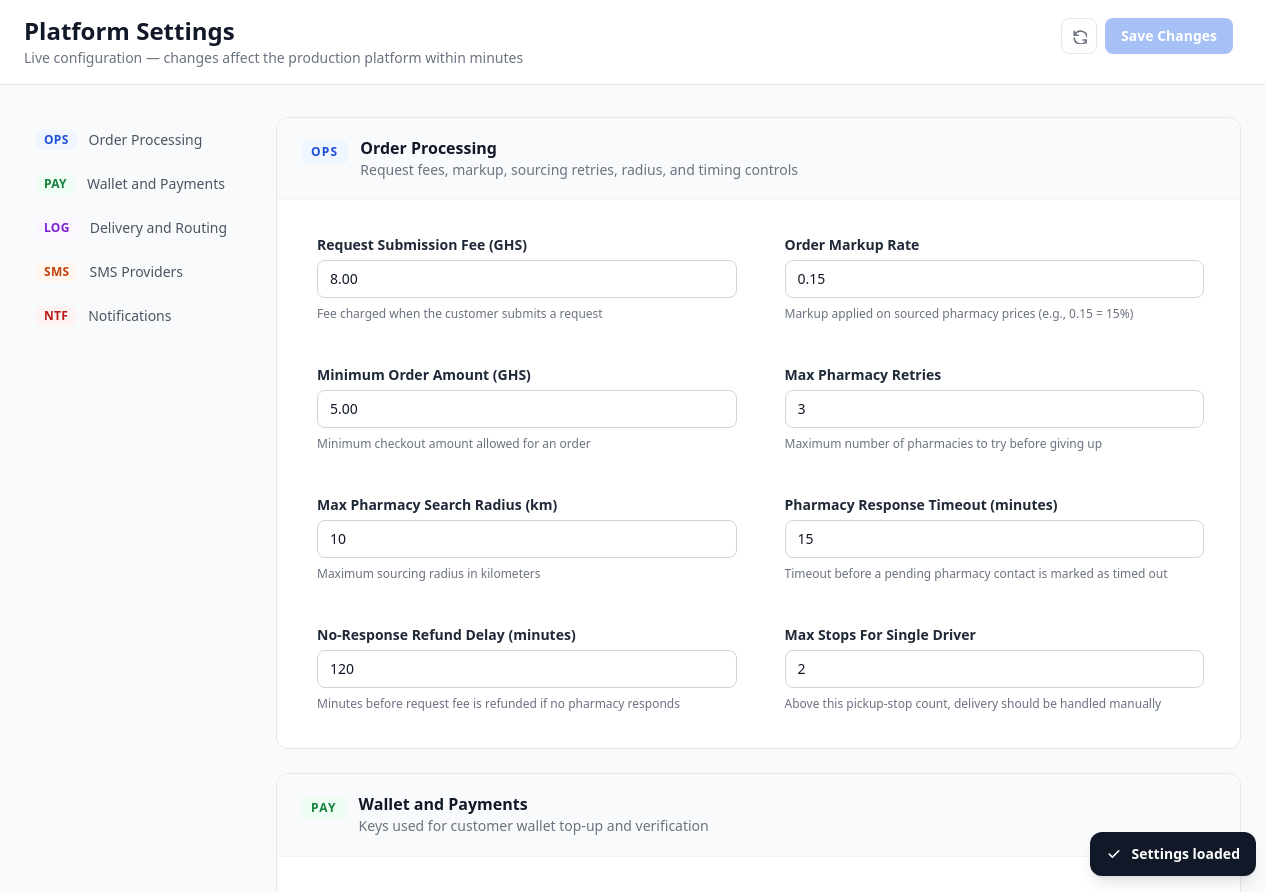
Test: admin platform settings: saving › keeps the edit and shows the server reason when the save is refused
This screenshot has width=1280, height=892.
Replace the text in the number field labelled "Request Submission Fee (GHS)" with "9.50" at [527, 279], box [317,260,736,298]
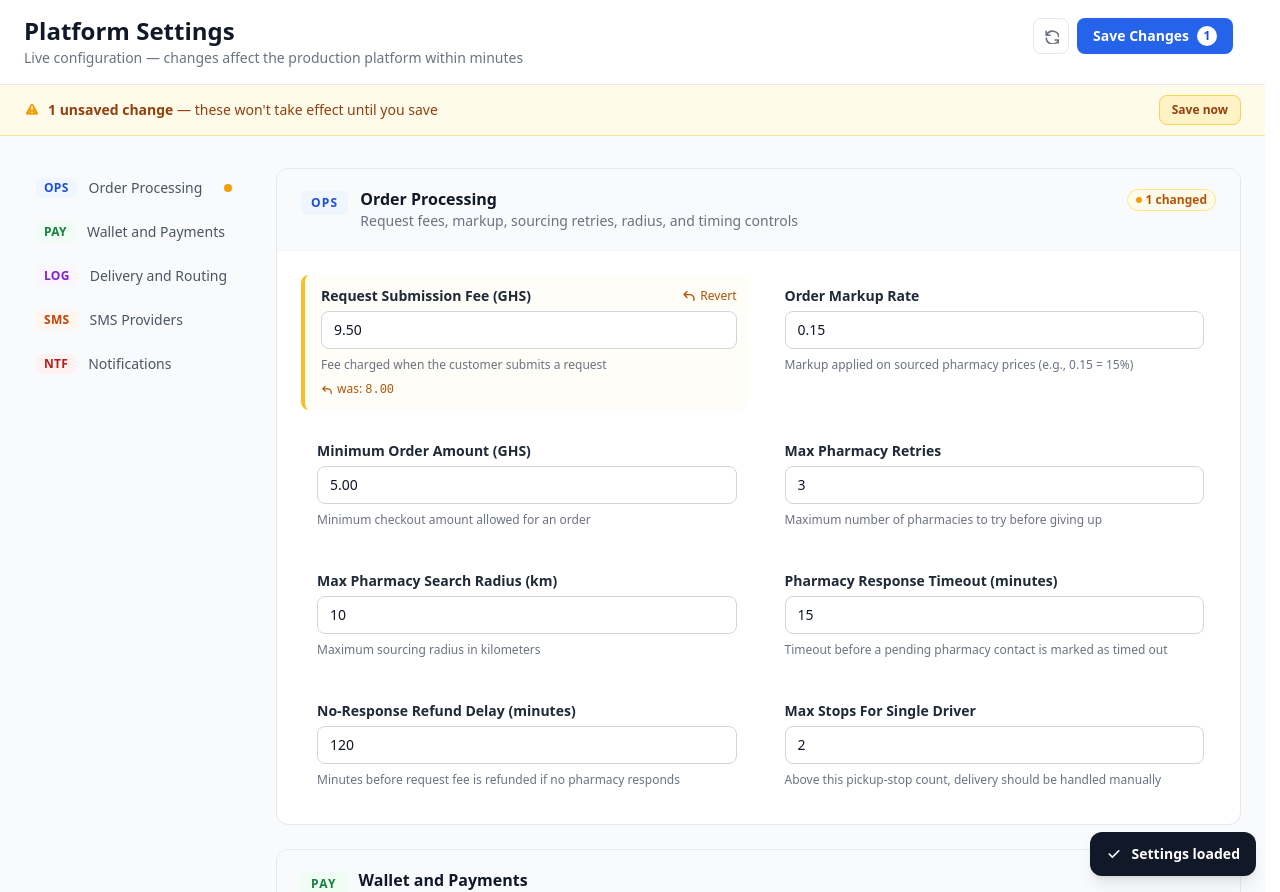
Click the button "Save Changes 1" at [1155, 36], box [1077,18,1233,54]
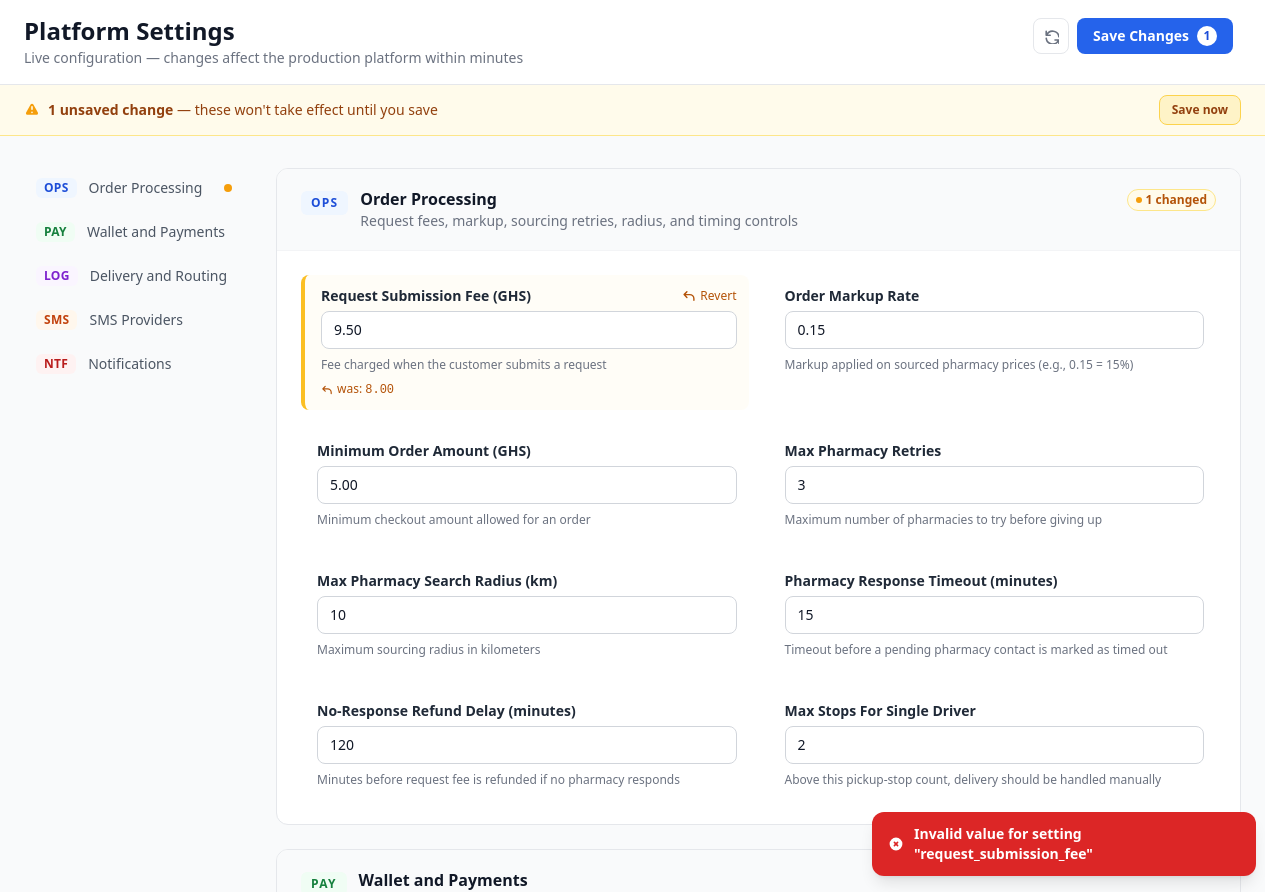
Now the text "1 unsaved change" is shown, box [48,100,173,119]
Now the text "Invalid value for setting" is shown, box [914,824,1093,863]
